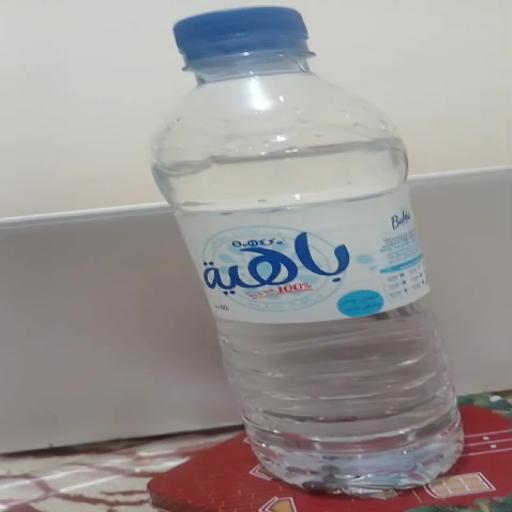bouteille non conformite: (121, 0, 501, 498)
